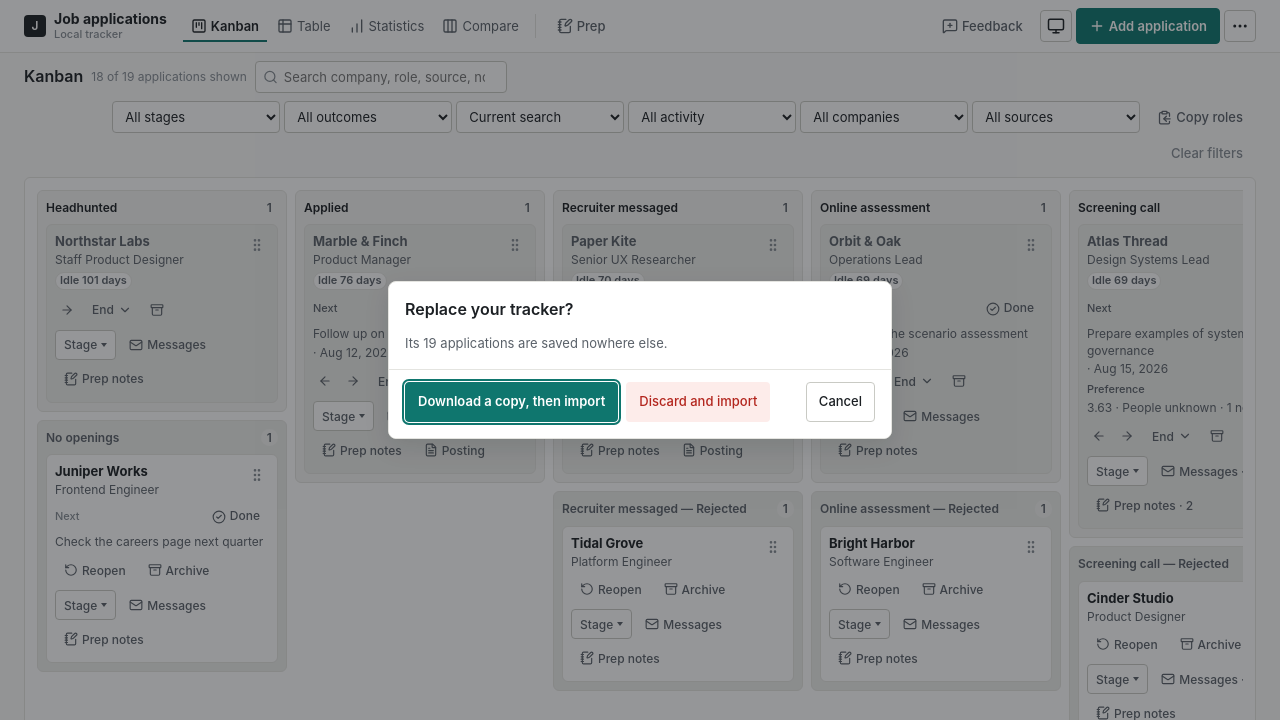
Scenario: pasting a file into the app › imports a copied export
The width and height of the screenshot is (1280, 720).
Click the button "Discard and import": (698, 402) [626,382,770,422]
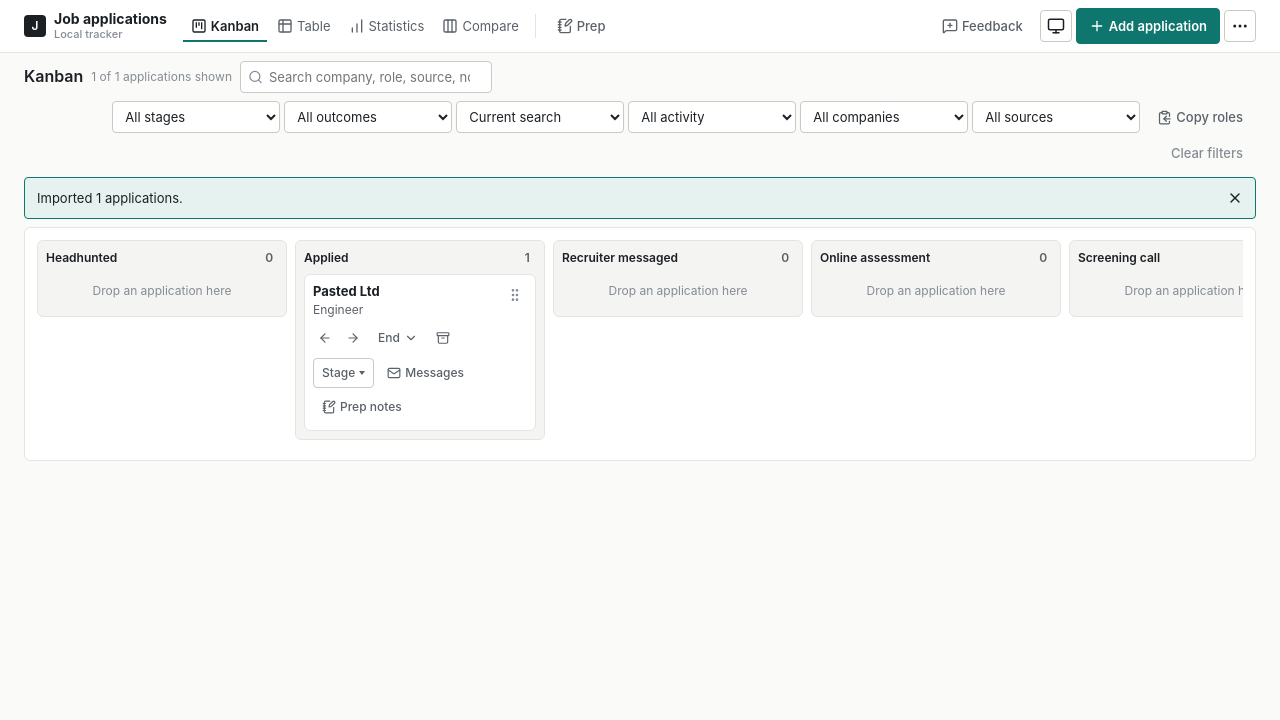
Now the text "1 of 1 applications shown" is shown, box [91,68,232,86]
